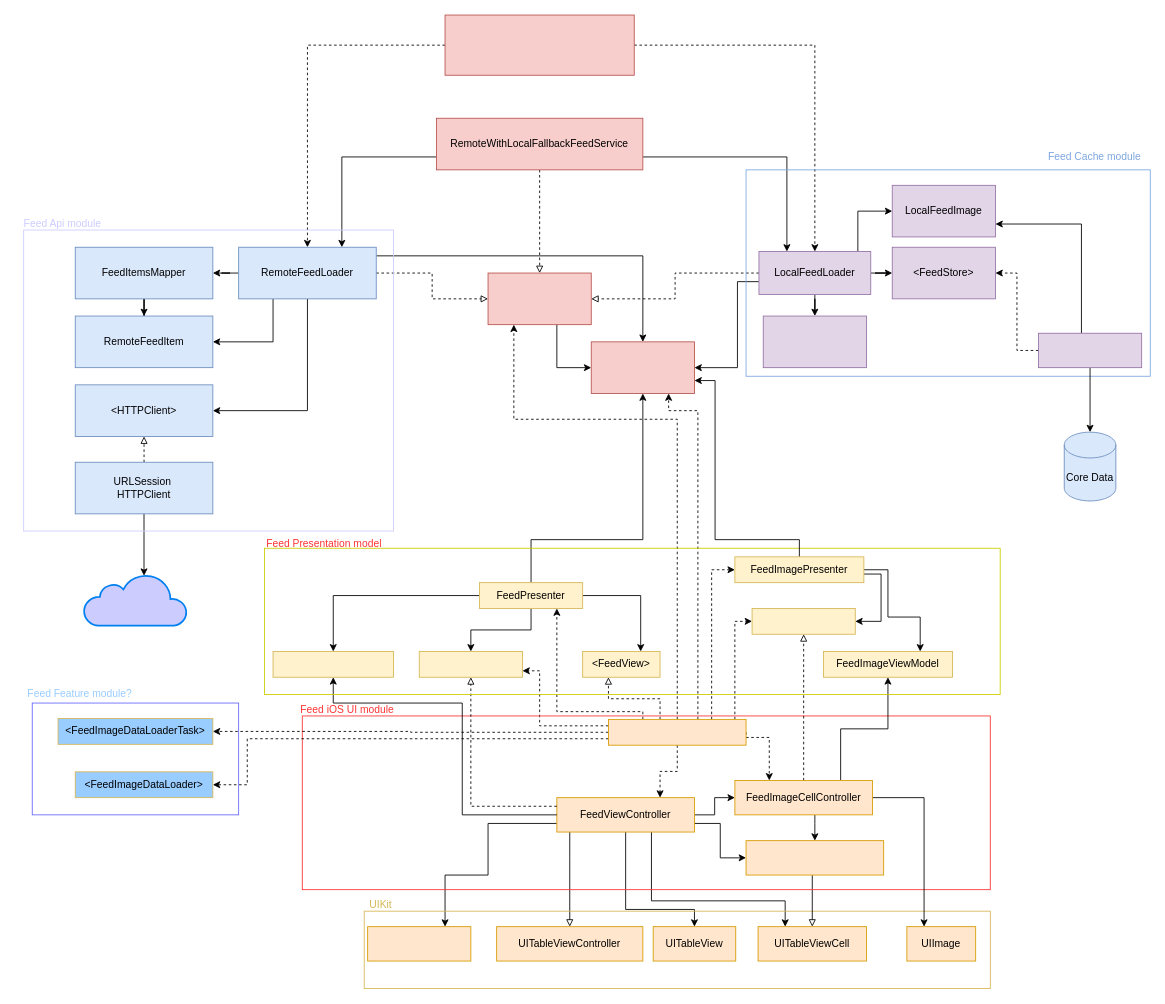
Image size: 1165x1004. Some labels were removed from this diagram. Here are the shapes that lost their labels. From the top down, the centre of each, then its label:
point (539, 44): Feed(Assembler/Builder/Factor
point (539, 298): <FeedLoader>
point (814, 341): FeedCachePolicy
point (1090, 350): CoreDataFeedStore
point (642, 367): FeedImage
point (803, 621): <FeedImageView>
point (332, 664): FeedLoadingViewModel
point (470, 664): <FeedLoadingView>
point (677, 732): FeedUIComposer
point (814, 857): FeedViewCell
point (419, 943): UIRefreshControl
